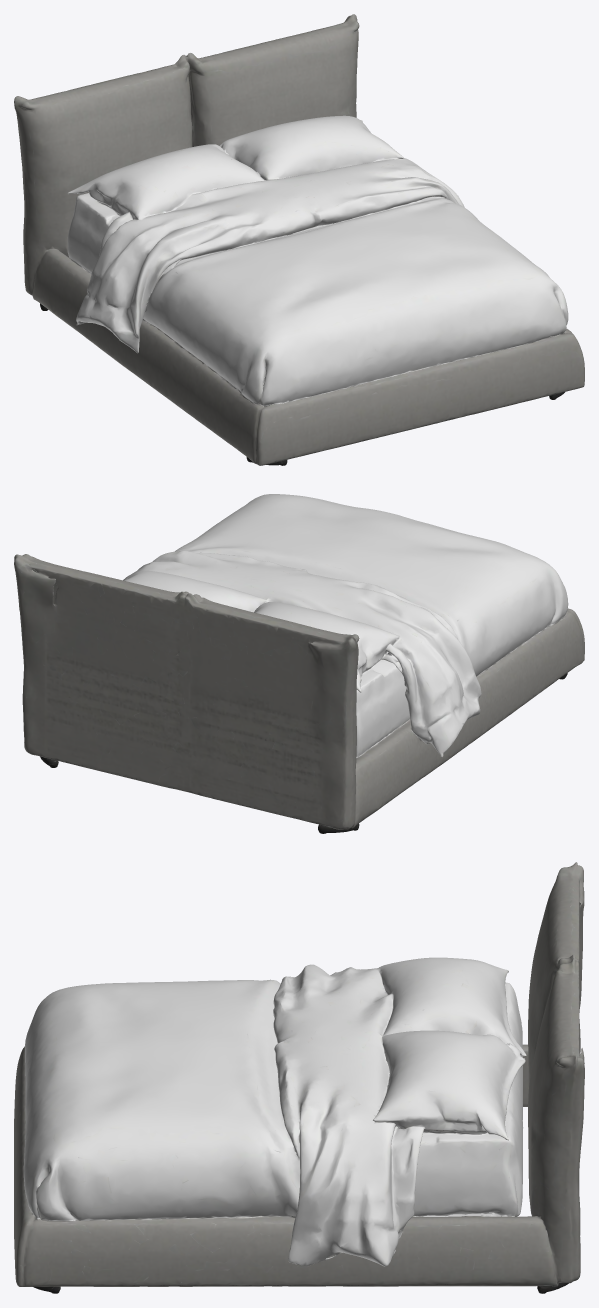
File: bed_02.glb
3 views of the same model, one above another, from view 1: azimuth 30°, elevation 25°; view 2: azimuth 150°, elevation 25°; view 3: azimuth 270°, elevation 25° (orthographic). The views are drawn at different scales.
Parts seen in each view (by area): view 1: world; view 2: world; view 3: world.
Part boxes in pixels (box(x1,y1,x2,y2)): world: box(14, 14, 584, 465); world: box(14, 494, 584, 833); world: box(14, 862, 584, 1293).
Size of the model in its own units: 0.9054 by 0.4773 by 1.
Materials: 1 (1 with a texture image).
